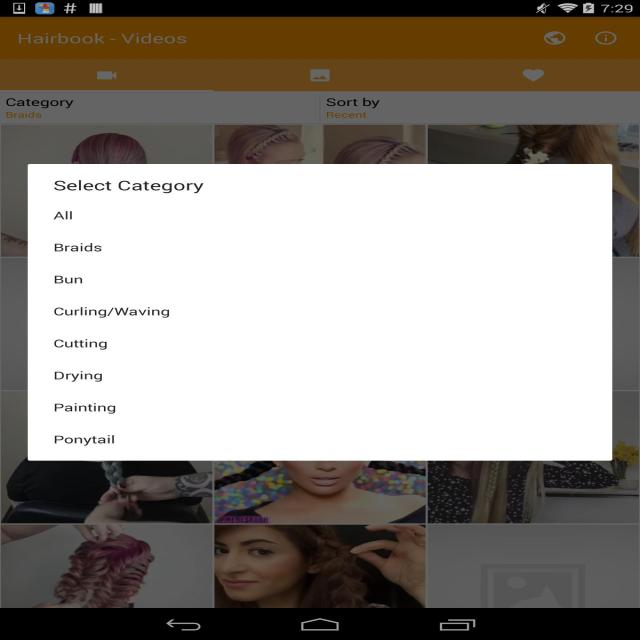button: (31, 422, 610, 456), (32, 262, 607, 293), (28, 391, 610, 419), (29, 330, 610, 358), (30, 298, 610, 325), (29, 362, 610, 388), (31, 232, 606, 258), (32, 204, 606, 228), (246, 58, 446, 90), (8, 58, 207, 90), (473, 58, 599, 92), (585, 25, 629, 52), (539, 27, 573, 52)
heading: (12, 28, 194, 52), (49, 174, 210, 199), (0, 94, 79, 110), (325, 95, 386, 108)
image: (0, 522, 640, 610)
text: (324, 109, 379, 122), (6, 110, 48, 122)
